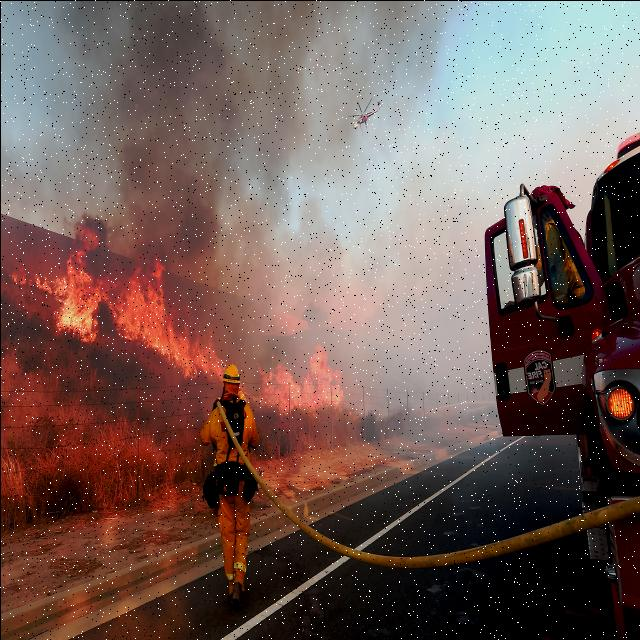api: (5, 207, 243, 398), (246, 342, 354, 420)
asap: (209, 68, 638, 419), (8, 1, 469, 294)
